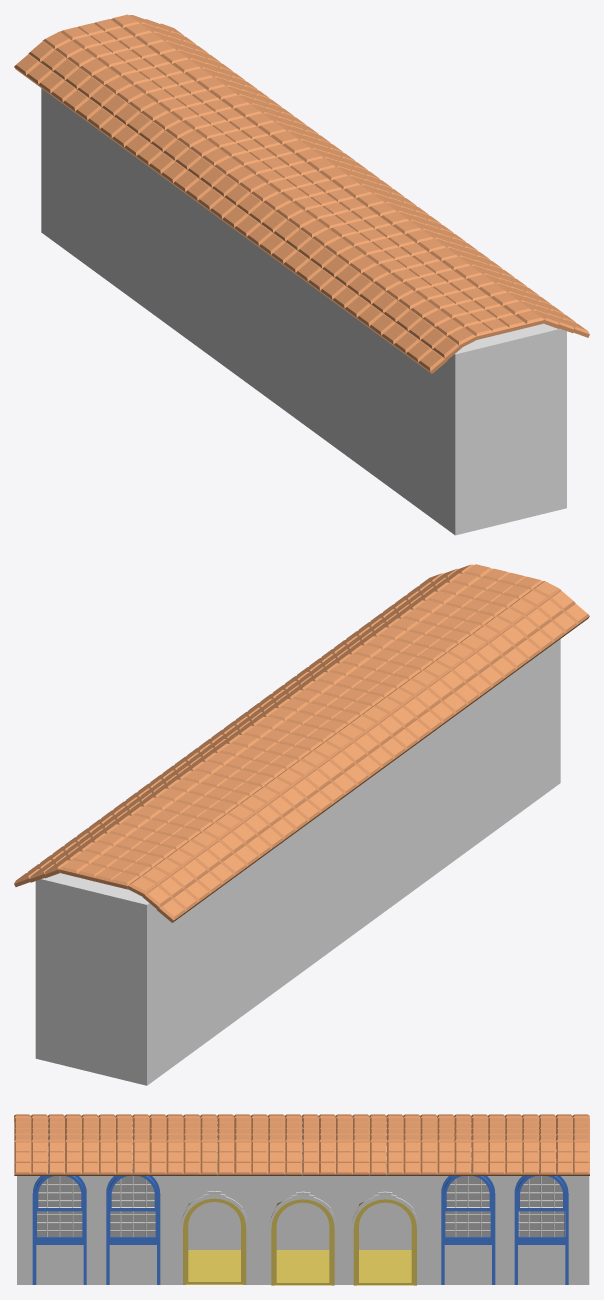
Rendered from SantaMargaretConceptBar1.fbx.
3 views of the same model, one above another, from view 1: azimuth 30°, elevation 25°; view 2: azimuth 150°, elevation 25°; view 3: azimuth 270°, elevation 25° (orthographic). The views are drawn at different scales.
Parts seen in each view (by area): view 1: Cube.140; view 2: Cube.140; view 3: Cube.140.
Boxes of the visible parts, bbox=[...] form: Cube.140: bbox=[14, 14, 589, 535]; Cube.140: bbox=[14, 564, 589, 1085]; Cube.140: bbox=[14, 1114, 589, 1285].
Size of the model in its own units: 2751 by 3250 by 12421.
